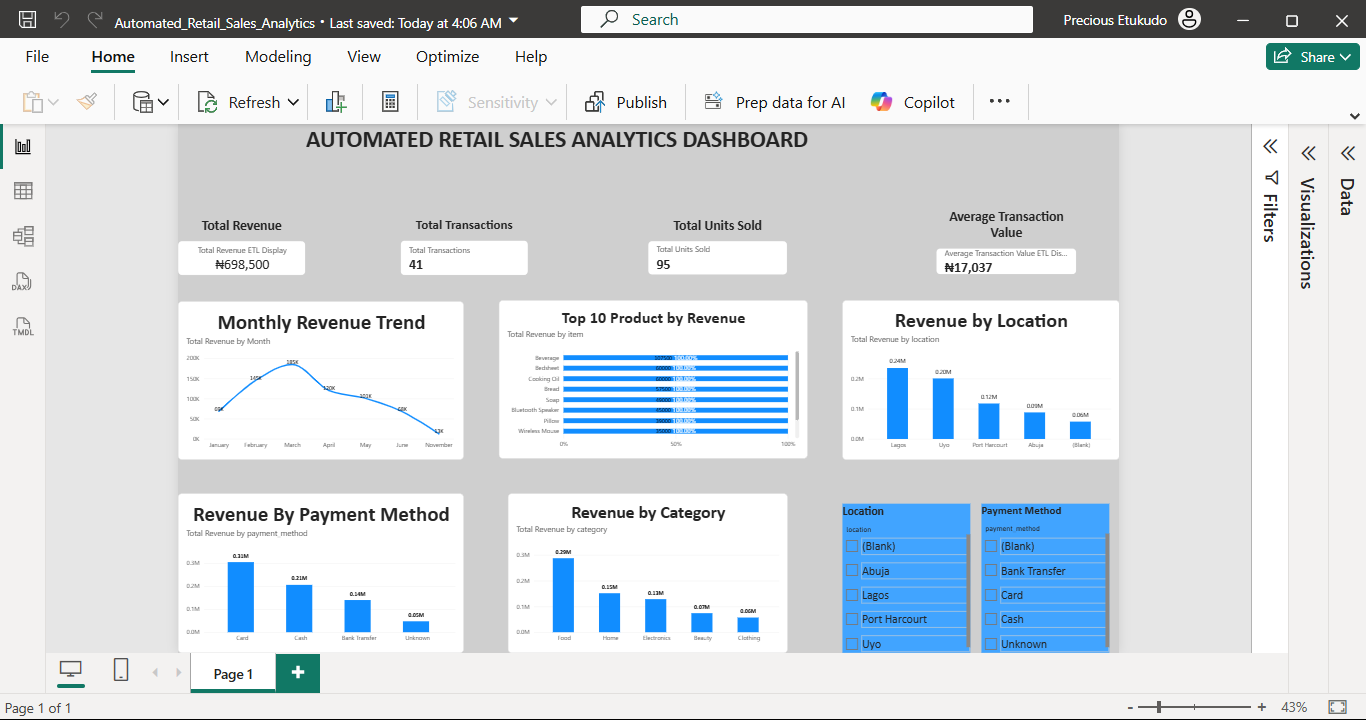

What the dashboard file says about the page in this screenshot:
{"tool":"powerbi","page":{"name":"Page 1","canvas":[1920,1080],"ordinal":0},"visuals":[{"type":"cardVisual","title":"Total Revenue","fields":{"Data":["sales_etl.Total Revenue ETL Display"]},"box":[0,188.5,260,120],"z":0},{"type":"cardVisual","title":"Total Transactions","fields":{"Data":["sales_etl.Total Transactions"]},"box":[454.5,188.5,260,120],"z":1000},{"type":"cardVisual","title":"Total Units Sold","fields":{"Data":["sales_etl.Total Units Sold"]},"box":[960.6,188.5,284.1,118.8],"z":2000},{"type":"cardVisual","title":"Average Transaction Value","fields":{"Data":["sales_etl.Average Transaction Value ETL Display"]},"box":[1546.8,170.4,286.6,136.9],"z":3000},{"type":"lineChart","title":"Monthly Revenue Trend","fields":{"Category":["sales_etl.transaction_date.Variation.Date Hierarchy.Month"],"Y":["sales_etl.Total Revenue"]},"box":[0,361.5,583.6,322.8],"z":4000},{"type":"hundredPercentStackedBarChart","title":"Top 10 Product by Revenue","fields":{"Category":["sales_etl.item"],"Y":["sales_etl.Total Revenue"]},"box":[655.9,359,630.1,322.8],"z":5000},{"type":"clusteredColumnChart","title":"Revenue by Location","fields":{"Category":["sales_etl.location"],"Y":["sales_etl.Total Revenue"]},"box":[1355.7,359,565.5,325.4],"z":6000},{"type":"clusteredColumnChart","title":"Revenue By Payment Method","fields":{"Category":["sales_etl.payment_method"],"Y":["sales_etl.Total Revenue"]},"box":[0,754.1,583.6,325.4],"z":7000},{"type":"slicer","title":"Location","fields":{"Values":["sales_etl.location"]},"box":[1355.7,774.7,260.8,304.7],"z":9002},{"type":"slicer","title":"Payment Method","fields":{"Values":["vw_sales_by_payment_method.payment_method"]},"box":[1639.8,774.7,260.8,304.7],"z":9003},{"type":"clusteredColumnChart","title":"Revenue by Category","fields":{"Category":["sales_etl.category"],"Y":["sales_etl.Total Revenue"]},"box":[674,754.1,570.7,325.4],"z":9004},{"type":"textbox","box":[0,0,1546.8,149.8],"z":9005}]}

Visuals, with their boxes on the page's 1920x1080 design canvas (x1, y1, x2, y2). These are canvas units, not pixel positions in the 1366x720 screenshot, which may show the page scaled, cropped or inside an application window:
"Total Revenue" cardVisual: 0,188,260,308
"Total Transactions" cardVisual: 454,188,714,308
"Total Units Sold" cardVisual: 961,188,1245,307
"Average Transaction Value" cardVisual: 1547,170,1833,307
"Monthly Revenue Trend" lineChart: 0,362,584,684
"Top 10 Product by Revenue" hundredPercentStackedBarChart: 656,359,1286,682
"Revenue by Location" clusteredColumnChart: 1356,359,1921,684
"Revenue By Payment Method" clusteredColumnChart: 0,754,584,1080
"Location" slicer: 1356,775,1616,1079
"Payment Method" slicer: 1640,775,1901,1079
"Revenue by Category" clusteredColumnChart: 674,754,1245,1080
textbox: 0,0,1547,150
